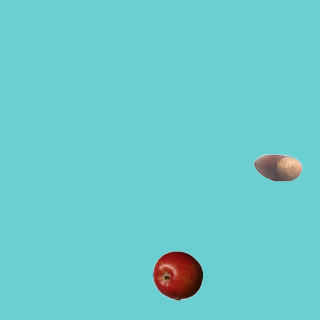Apple Braeburn: (152, 250, 202, 300)
Hazelnut: (252, 142, 302, 192)
